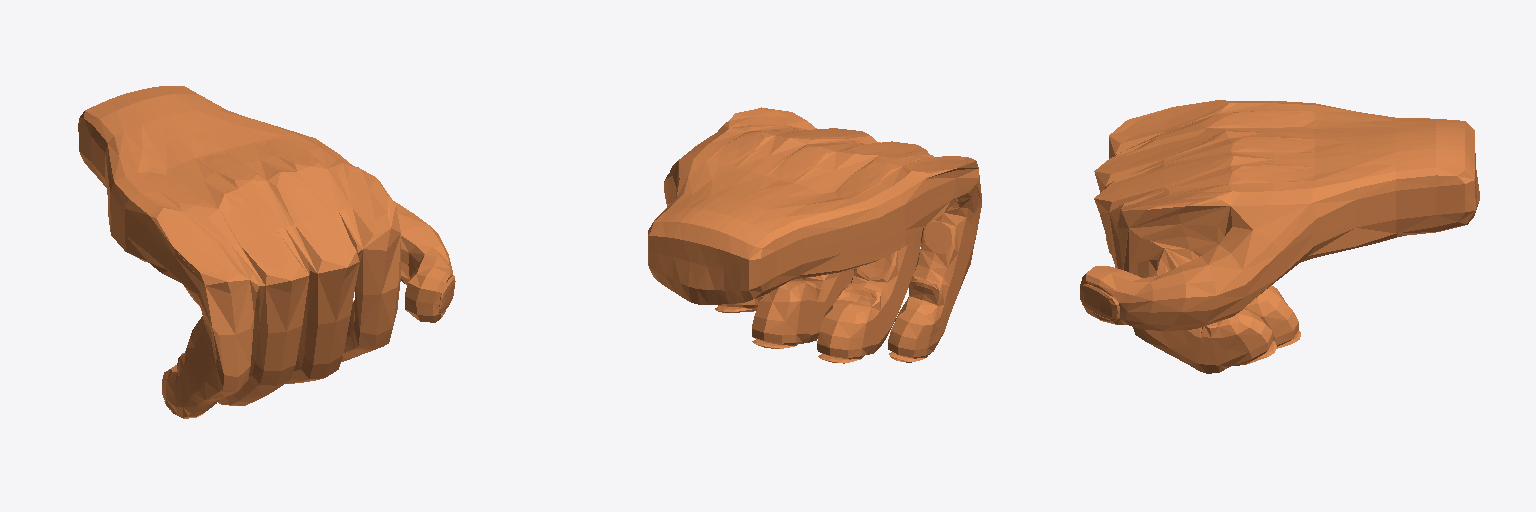
The model's file is hand10.obj.
3 views of the same model, side by side, from view 1: azimuth 30°, elevation 25°; view 2: azimuth 150°, elevation 25°; view 3: azimuth 270°, elevation 25° (orthographic).
Visible parts, largest first — view 1: Box001; view 2: Box001; view 3: Box001.
Boxes of the visible parts, <box> form: Box001: <box>78,86,455,418</box>; Box001: <box>648,107,981,363</box>; Box001: <box>1080,100,1479,373</box>.
Bounding box in the file's own units: 194 × 146 × 246.